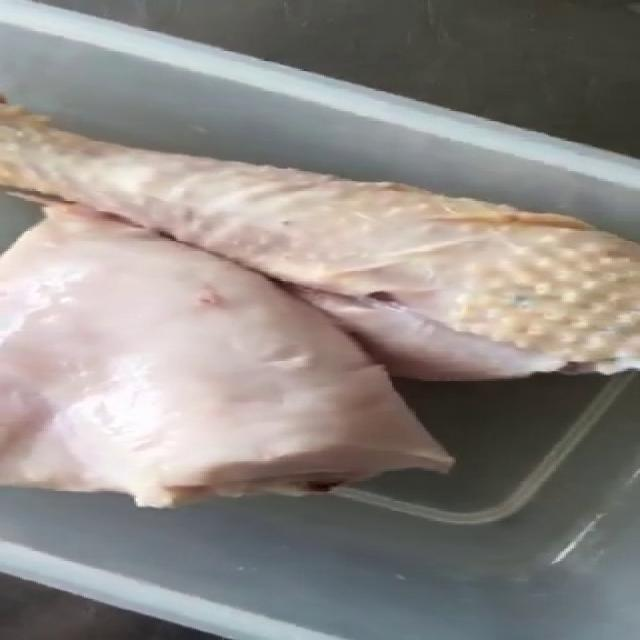Chicken: (1, 0, 3, 2)
